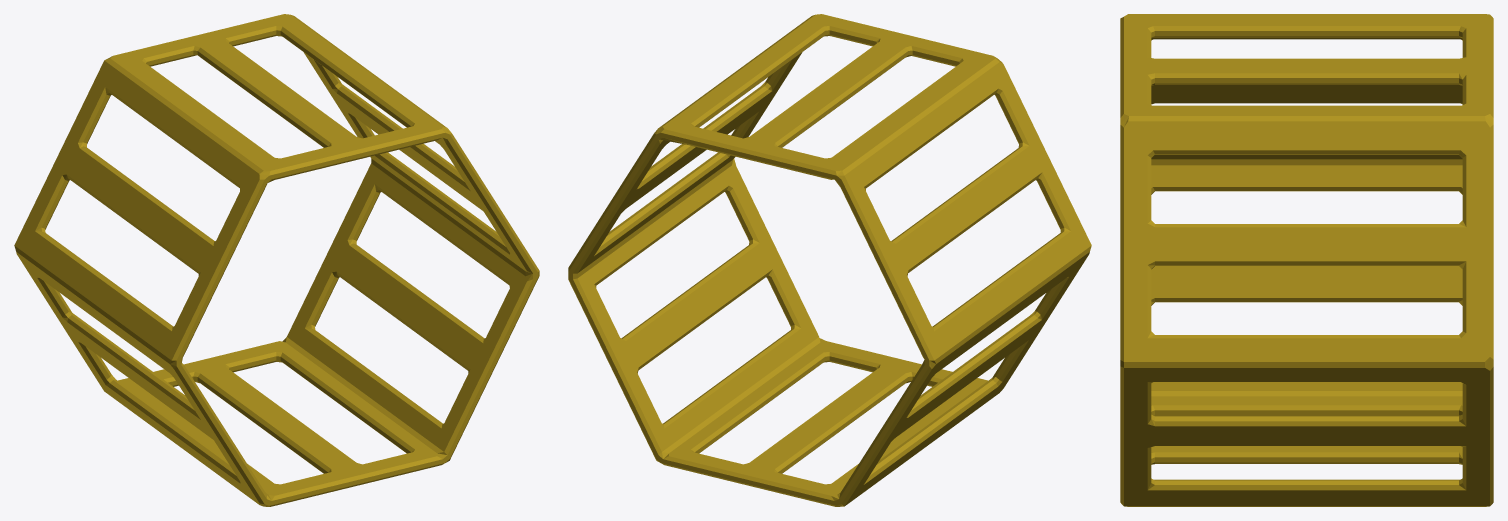
File: hexgate.obj
The picture shows the model from 3 angles, left to right: view 1: azimuth 30°, elevation 25°; view 2: azimuth 150°, elevation 25°; view 3: azimuth 270°, elevation 25°; orthographic projection. The views are drawn at different scales.
Visible parts, largest first — view 1: root; view 2: root; view 3: root.
Boxes of the visible parts, box(x1,y1,x2,y2) form: root: box(14, 14, 539, 506); root: box(568, 14, 1091, 506); root: box(1120, 14, 1493, 506).
Bounding box in the file's own units: 199 × 173 × 150.
